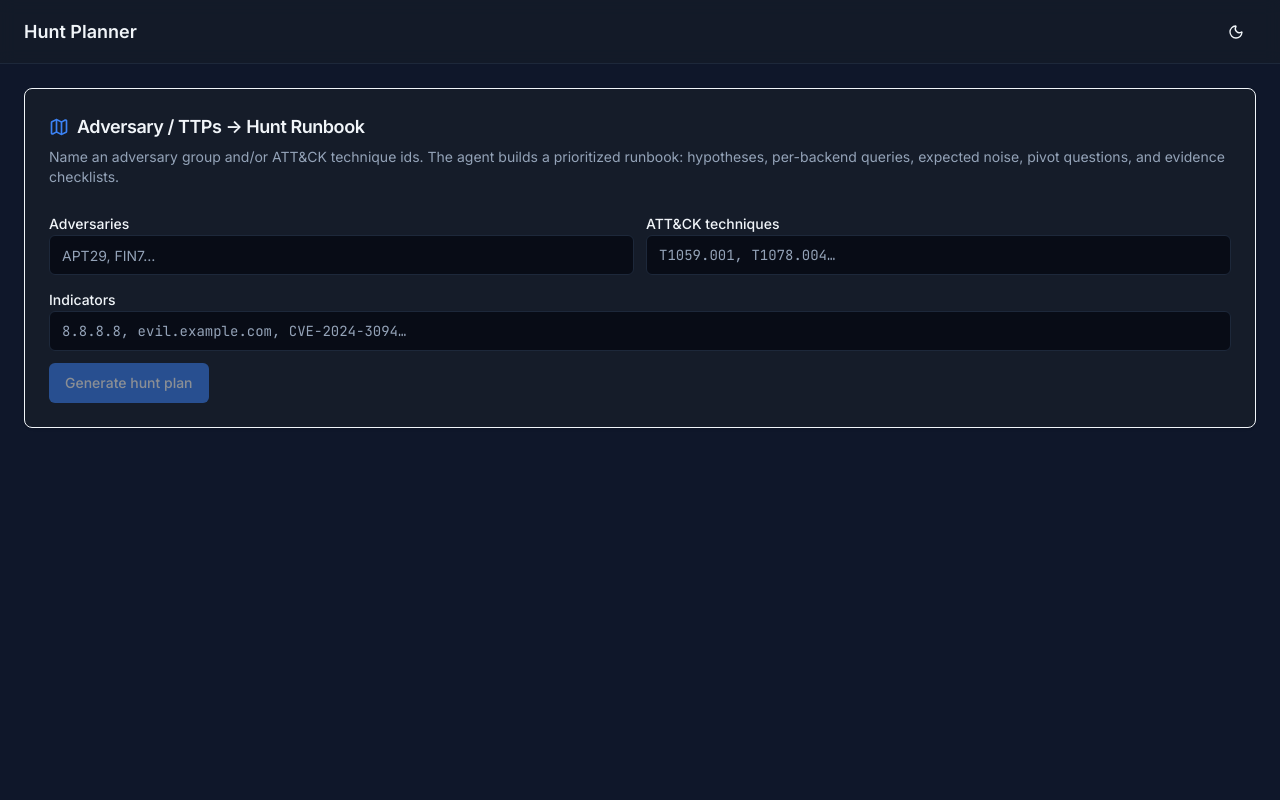
Test case: HuntPlanPage › surfaces API failure in the alert
The image size is (1280, 800).
In the field with test id "plan-ttps-input": (938, 255) [646,235,1231,275], type "T1059.001"
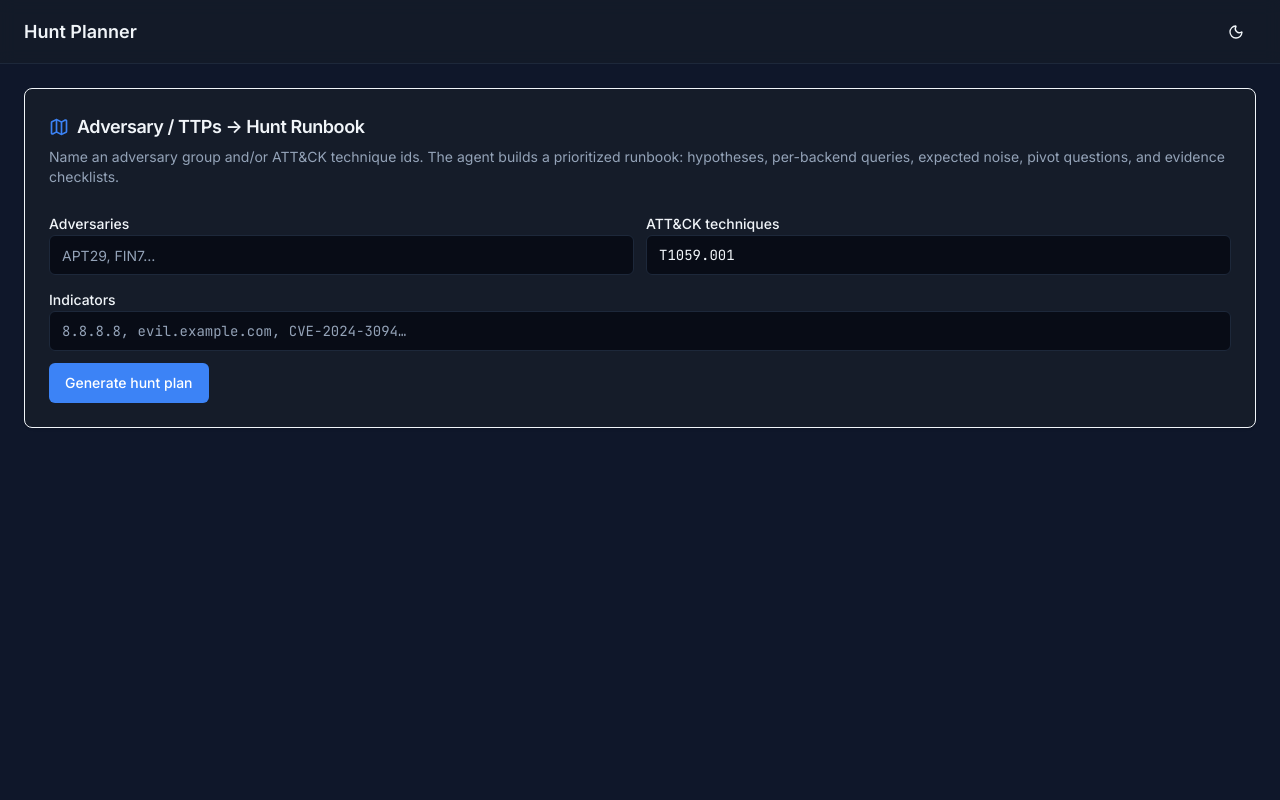
Click the button with test id "generate-plan": (129, 383) [49,363,208,403]
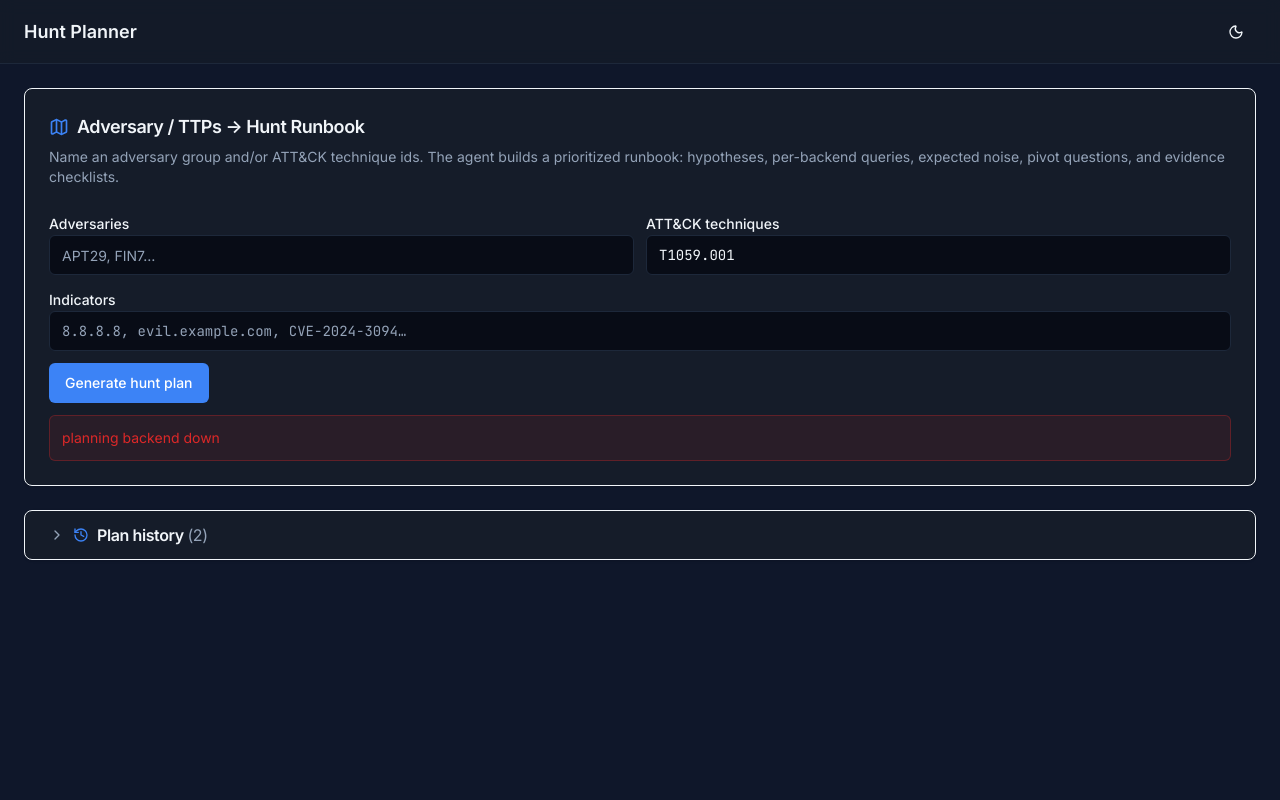
Expected: the message reads "planning backend down", [62,429,220,446]
